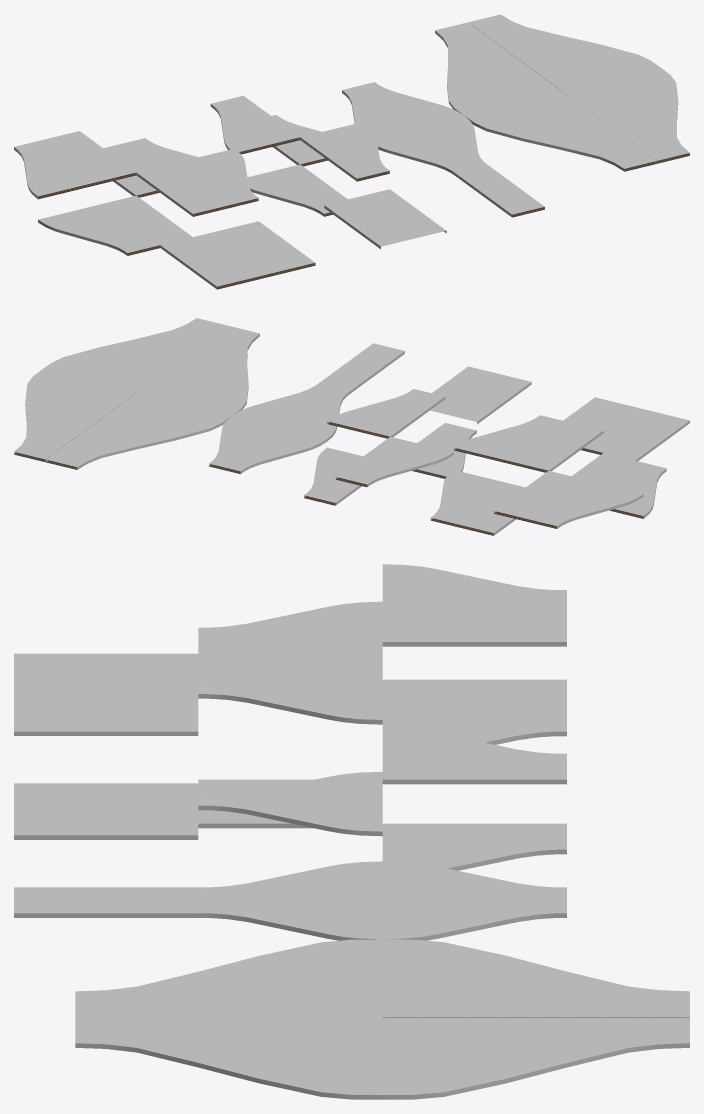
The model's file is track principales.FBX.
3 renders of one model, top to bottom at view 1: azimuth 30°, elevation 25°; view 2: azimuth 150°, elevation 25°; view 3: azimuth 270°, elevation 25°, orthographic. The views are drawn at different scales.
Visible parts, largest first — view 1: tr2kto3ksideleft, tr2kto3ksideleft003, tr2kto3ksideleft004, tr2kto3ksideleft002, tr3k3, tr3kto2ksideleft, tr2kto3ksideright, tr3kto2ksideright, tr1kTo3kMid, tr2k3, tr1kTo3kMid001, tr2kto1kright001 (+5 smaller); view 2: tr2kto3ksideleft004, tr2kto3ksideleft002, tr2kto3ksideleft, tr2kto3ksideleft003, tr2kto3ksideright, tr3kto2ksideright, tr3k3, tr1kTo3kMid001, tr2kto3ksideleft001, tr1kTo3kMid, tr2k3, tr1kto2kright (+5 smaller); view 3: tr2kto3ksideleft002, tr2kto3ksideleft003, tr2kto3ksideleft004, tr2kto3ksideleft, tr3k3, tr2kto3ksideright, tr3kto2ksideright, tr2kto3ksideleft001, tr2k3, tr1kTo3kMid001, tr1kTo3kMid, tr1kto2kright (+5 smaller).
Part boxes in pixels (x1,y1,x2,y2): tr2kto3ksideleft: [464, 91, 656, 171]; tr2kto3ksideleft003: [563, 67, 689, 163]; tr2kto3ksideleft004: [435, 22, 561, 115]; tr2kto3ksideleft002: [468, 14, 660, 91]; tr3k3: [160, 221, 315, 289]; tr3kto2ksideleft: [38, 195, 192, 255]; tr2kto3ksideright: [14, 131, 136, 199]; tr3kto2ksideright: [136, 148, 258, 216]; tr1kTo3kMid: [376, 115, 487, 175]; tr2k3: [324, 189, 446, 249]; tr1kTo3kMid001: [342, 82, 463, 136]; tr2kto1kright001: [300, 121, 389, 181]; tr2kto3ksideleft004: [46, 392, 231, 469]; tr2kto3ksideleft002: [14, 369, 136, 462]; tr2kto3ksideleft: [137, 326, 259, 415]; tr2kto3ksideleft003: [42, 318, 227, 392]; tr2kto3ksideright: [493, 471, 643, 528]; tr3kto2ksideright: [453, 415, 603, 472]; tr3k3: [563, 397, 689, 461]; tr1kTo3kMid001: [209, 416, 326, 473]; tr2kto3ksideleft001: [430, 470, 525, 535]; tr1kTo3kMid: [232, 383, 350, 441]; tr2k3: [430, 366, 531, 424]; tr1kto2kright: [335, 436, 453, 486]; tr2kto3ksideleft002: [382, 1017, 689, 1099]; tr2kto3ksideleft003: [75, 1017, 382, 1099]; tr2kto3ksideleft004: [382, 939, 689, 1017]; tr2kto3ksideleft: [75, 939, 382, 1017]; tr3k3: [14, 653, 198, 735]; tr2kto3ksideright: [382, 564, 566, 646]; tr3kto2ksideright: [198, 642, 382, 724]; tr2kto3ksideleft001: [382, 679, 566, 744]; tr2k3: [14, 783, 198, 839]; tr1kTo3kMid001: [382, 861, 566, 940]; tr1kTo3kMid: [198, 861, 382, 940]; tr1kto2kright: [382, 727, 566, 784].
Bounding box in the file's own units: 76 × 4.05 × 44.
